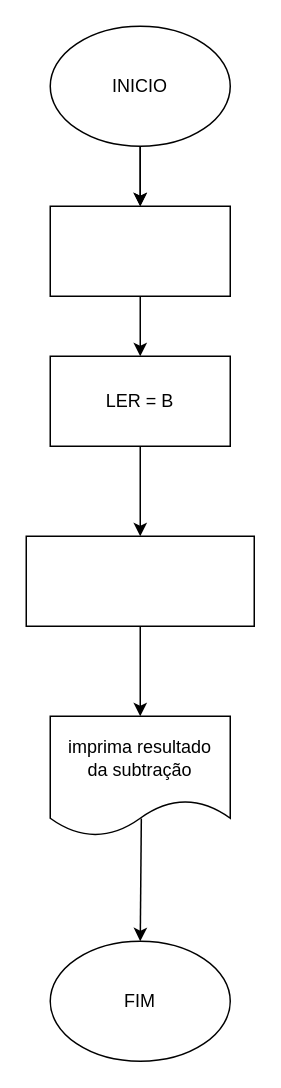
Some shapes in this 281 by 1088 pixel diagram are drawn without their labels. Here are the shapes that lost their labels. From the top down, the centre of each, then its label:
At [139,250]: "LER = A".
At [139,580]: "SUBTRAÇÃO = A - B".
